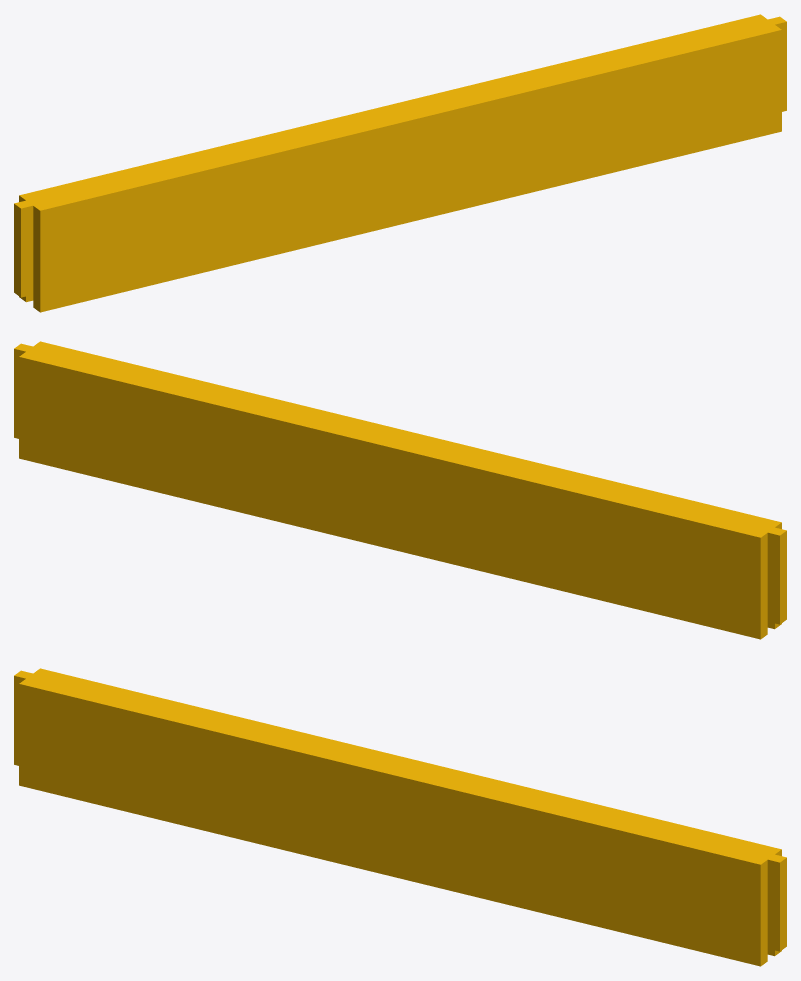
The model's file is original-48.obj.
The picture shows the model from 3 angles, top to bottom: view 1: azimuth 30°, elevation 25°; view 2: azimuth 150°, elevation 25°; view 3: azimuth 330°, elevation 25°; orthographic projection.
Visible parts, largest first — view 1: front_back_upper_support1/front_back_upper_support/mesh52/mesh52; view 2: front_back_upper_support1/front_back_upper_support/mesh52/mesh52; view 3: front_back_upper_support1/front_back_upper_support/mesh52/mesh52.
Boxes of the visible parts, <box> form: front_back_upper_support1/front_back_upper_support/mesh52/mesh52: <box>14,14,786,312</box>; front_back_upper_support1/front_back_upper_support/mesh52/mesh52: <box>14,341,786,639</box>; front_back_upper_support1/front_back_upper_support/mesh52/mesh52: <box>14,668,786,966</box>.
Size of the model in its own units: 0.6884 by 0.0874 by 0.0328.
